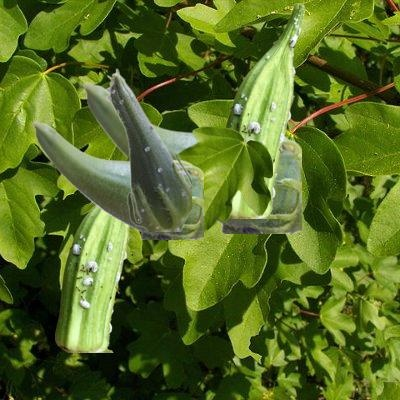okra: (82, 82, 300, 232), (32, 121, 202, 238), (225, 3, 304, 217), (55, 156, 130, 351), (105, 68, 190, 230)
